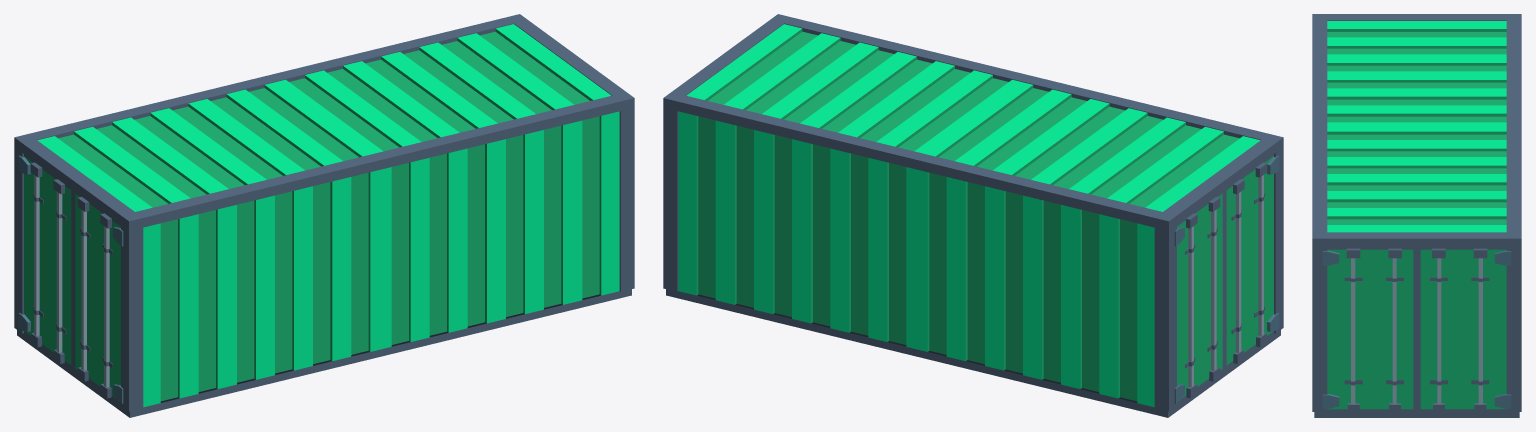
The model's file is Prop_Shippin02.fbx.
3 renders of one model, left to right at view 1: azimuth 30°, elevation 25°; view 2: azimuth 150°, elevation 25°; view 3: azimuth 270°, elevation 25°, orthographic. The views are drawn at different scales.
Visible parts, largest first — view 1: Cube.876; view 2: Cube.876; view 3: Cube.876.
Part boxes in pixels (x1,y1,x2,y2): Cube.876: (14,14,634,417); Cube.876: (663,14,1283,417); Cube.876: (1312,14,1521,417).
Size of the model in its own units: 910 by 337 by 355.
